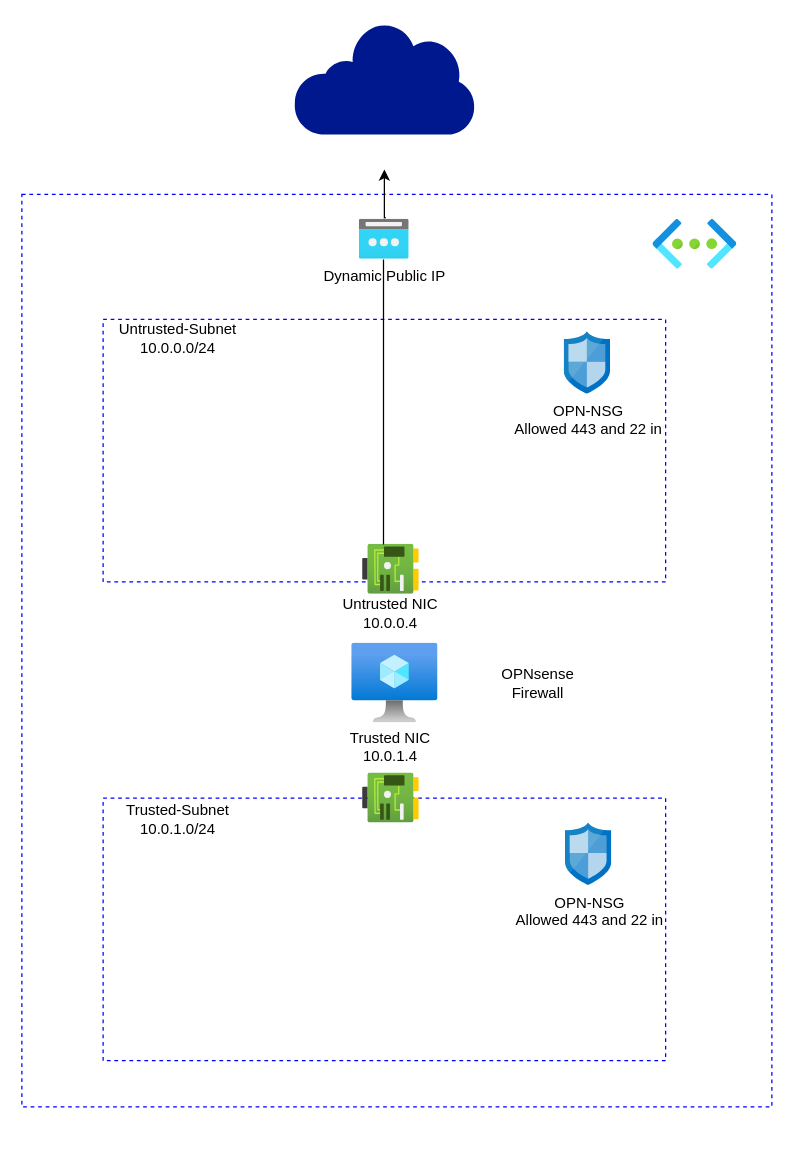
This 794x1151 diagram has some shape labels left out. Here are the shapes that lost their labels. From the top down, the centre of each, then its label:
the point at 383,77: Internet
the point at 694,244: OPN-VNET
